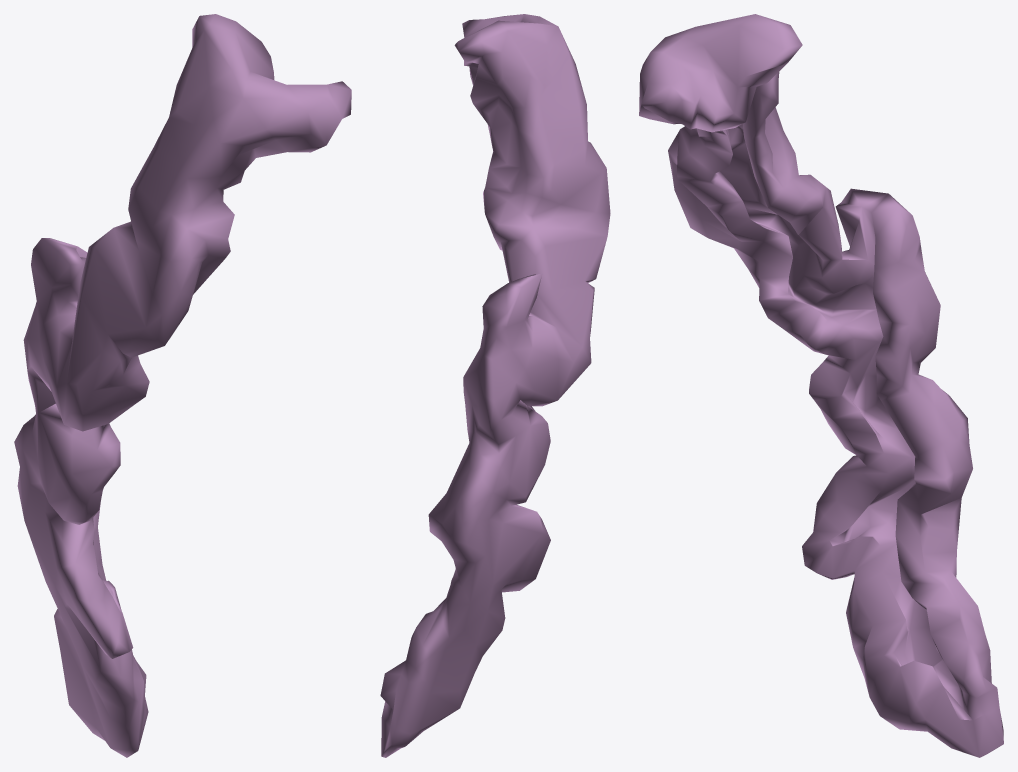
3 views of the same model, side by side, from view 1: azimuth 30°, elevation 25°; view 2: azimuth 150°, elevation 25°; view 3: azimuth 270°, elevation 25° (orthographic). The views are drawn at different scales.
Parts seen in each view (by area): view 1: 右侧颞中回; view 2: 右侧颞中回; view 3: 右侧颞中回.
Part boxes in pixels (left/top/right/bottom): 右侧颞中回: left=14, top=14, right=351, bottom=757; 右侧颞中回: left=380, top=14, right=610, bottom=757; 右侧颞中回: left=639, top=14, right=1003, bottom=757.
Bounding box in the file's own units: 0.0414 × 0.1479 × 0.0667.
